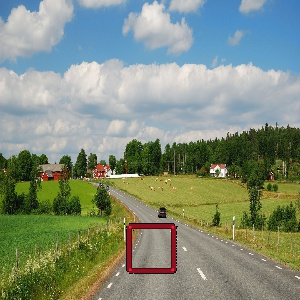square: (123, 221, 181, 277)
